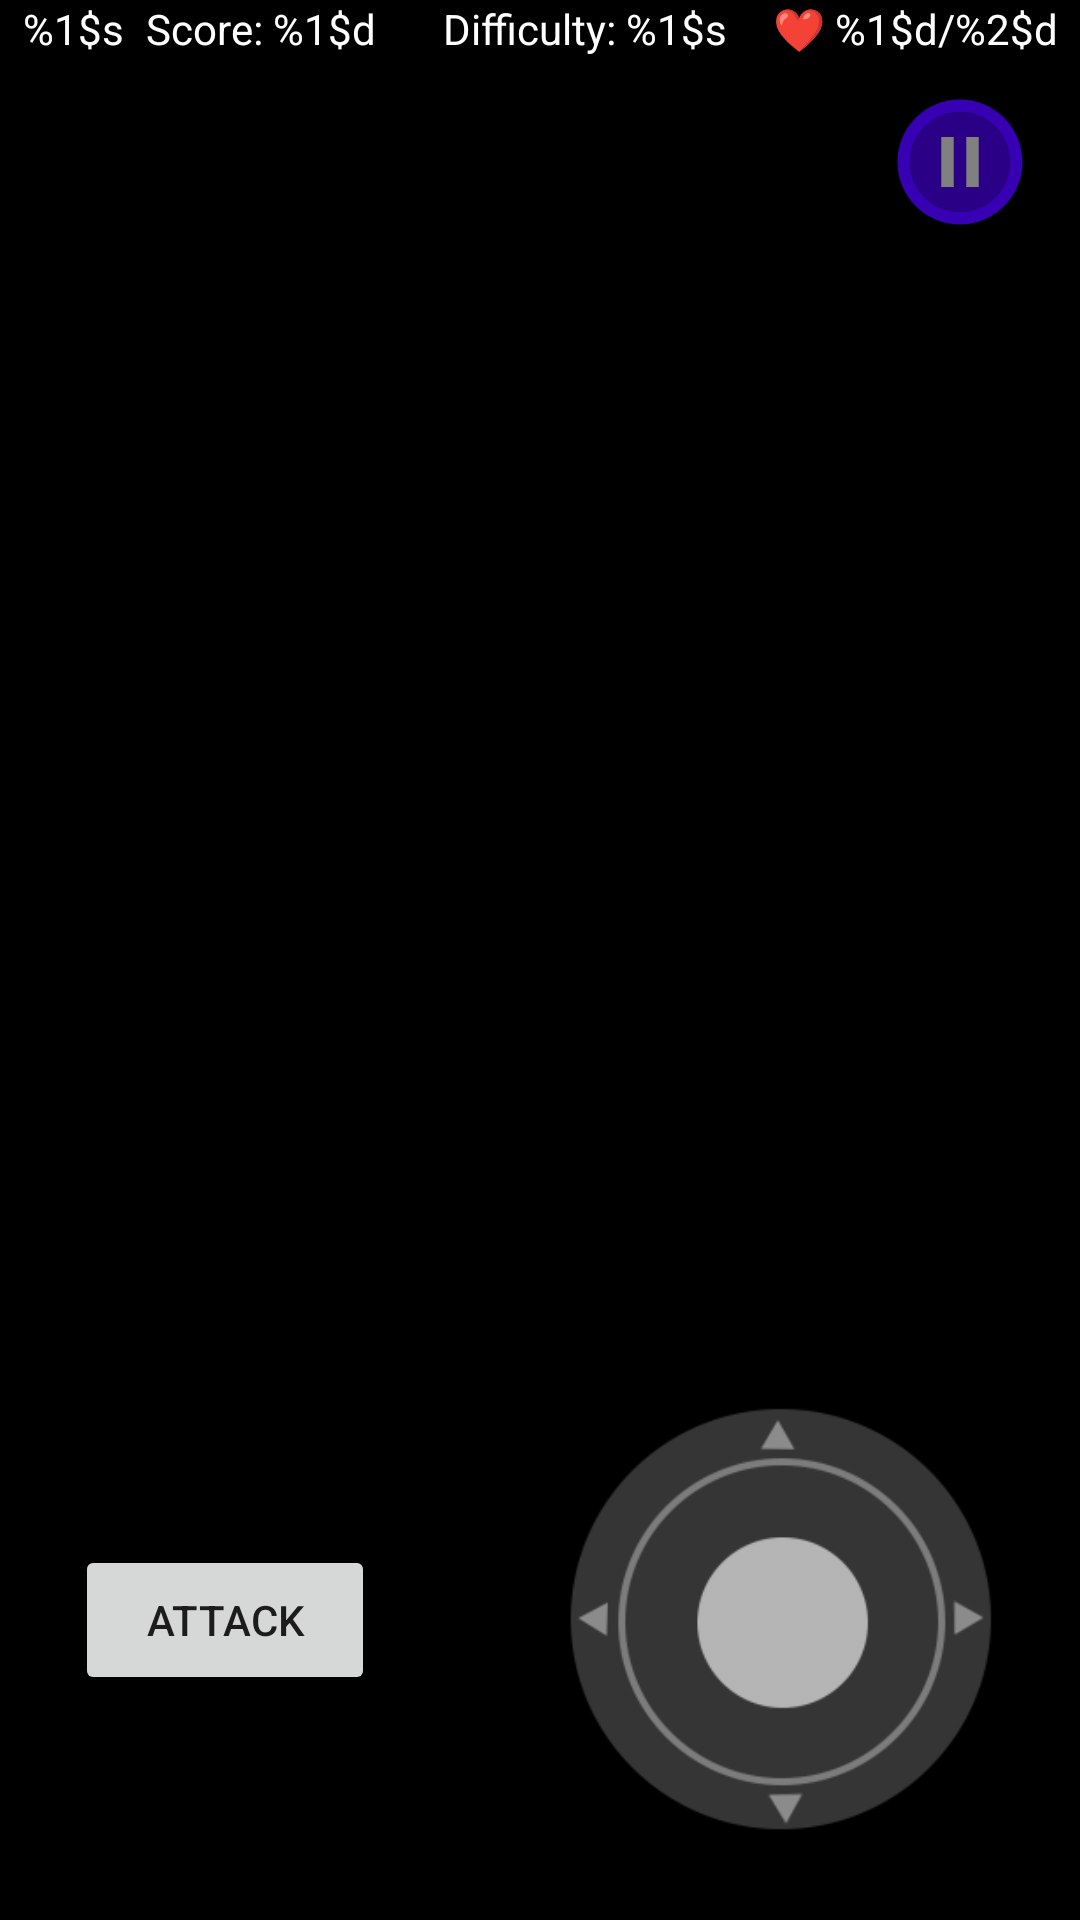

Locate icon controls on the screen. Image size 1080*1920, boxes as [left=x1, top=y1, right=x2, bottom=y2].
Image that lets the user pause the game: [left=897, top=99, right=1023, bottom=225]
